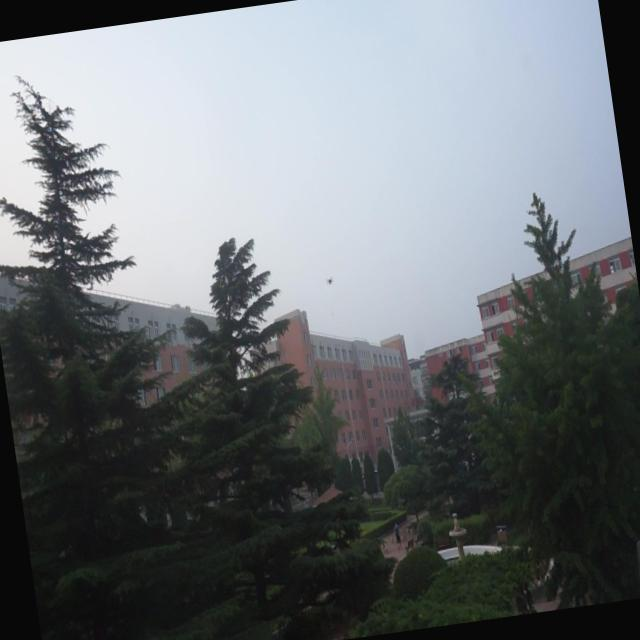drone: (323, 270, 337, 288)
